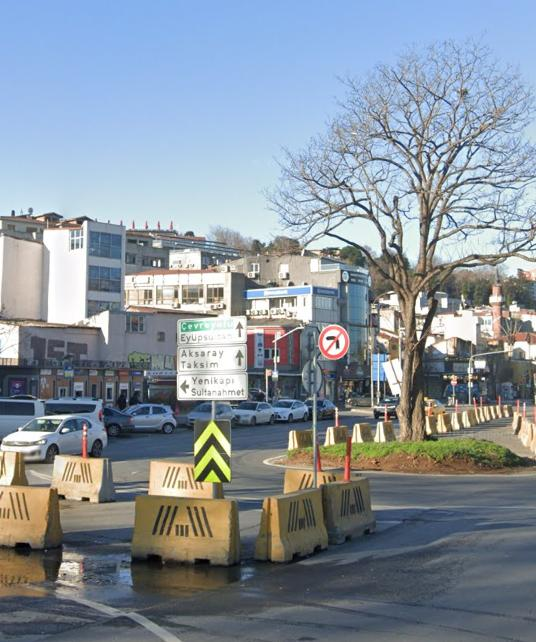leftturnsareforbidden: (320, 325, 350, 359)
